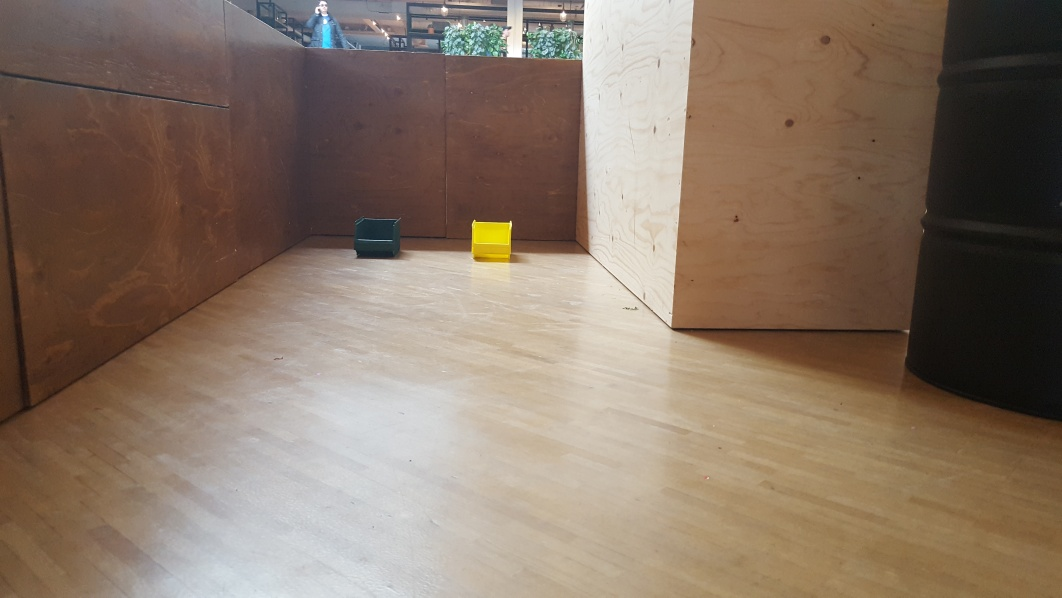tray: (351, 210, 404, 260), (469, 214, 515, 258)
